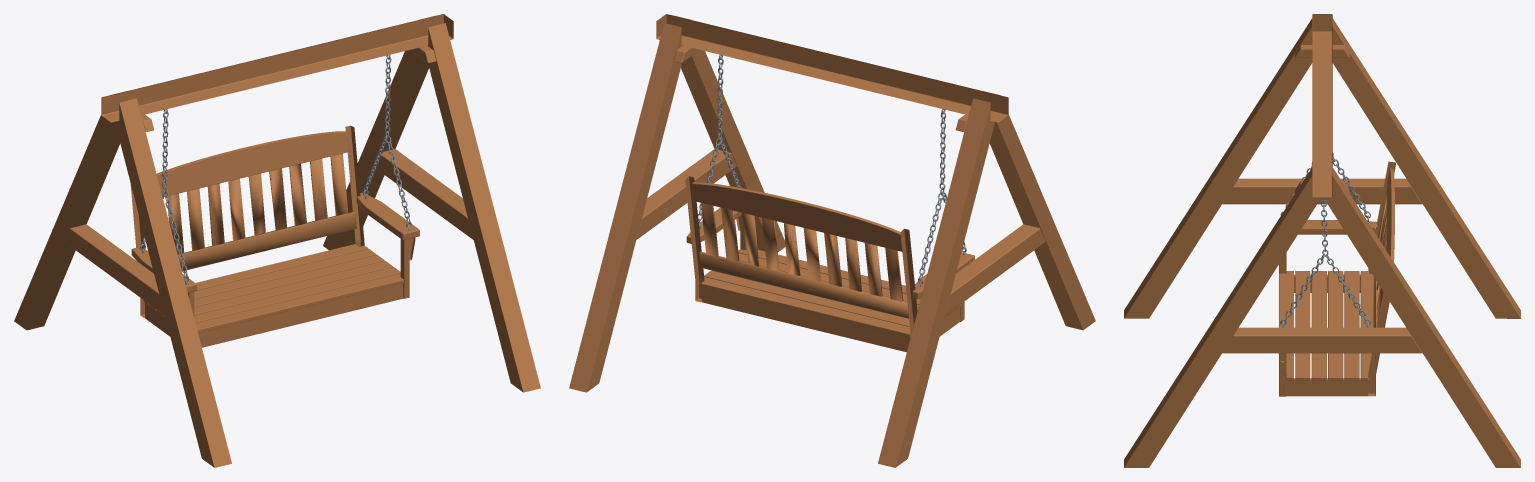
Rendered from porchswing.glb.
The picture shows the model from 3 angles, left to right: view 1: azimuth 30°, elevation 25°; view 2: azimuth 150°, elevation 25°; view 3: azimuth 270°, elevation 25°; orthographic projection.
Visible parts, largest first — view 1: cedar, chain; view 2: cedar, chain; view 3: cedar, chain.
Part boxes in pixels (bbox=[...]): cedar: bbox=[14, 14, 540, 467]; chain: bbox=[140, 49, 411, 284]; cedar: bbox=[569, 14, 1095, 467]; chain: bbox=[698, 49, 966, 286]; cedar: bbox=[1124, 14, 1520, 467]; chain: bbox=[1280, 59, 1370, 327].
Size of the model in its own units: 2.55 by 2.1 by 2.58.
